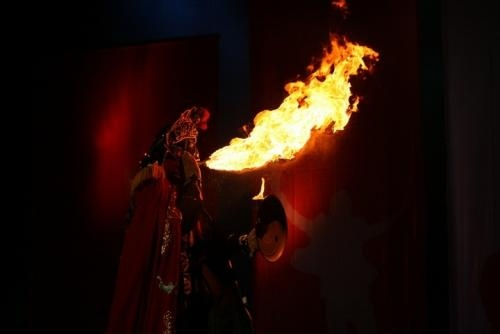fire: (204, 30, 377, 169), (252, 176, 268, 200)
